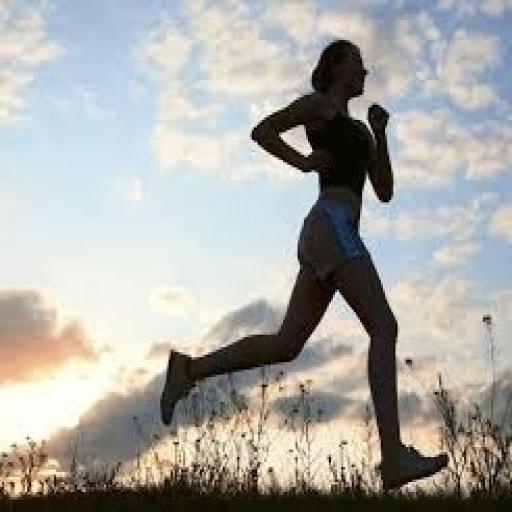running: (156, 35, 452, 494)
